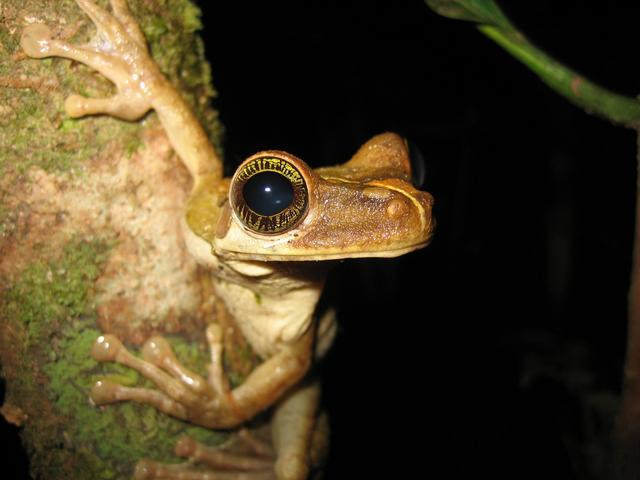frog: (125, 86, 444, 440)
